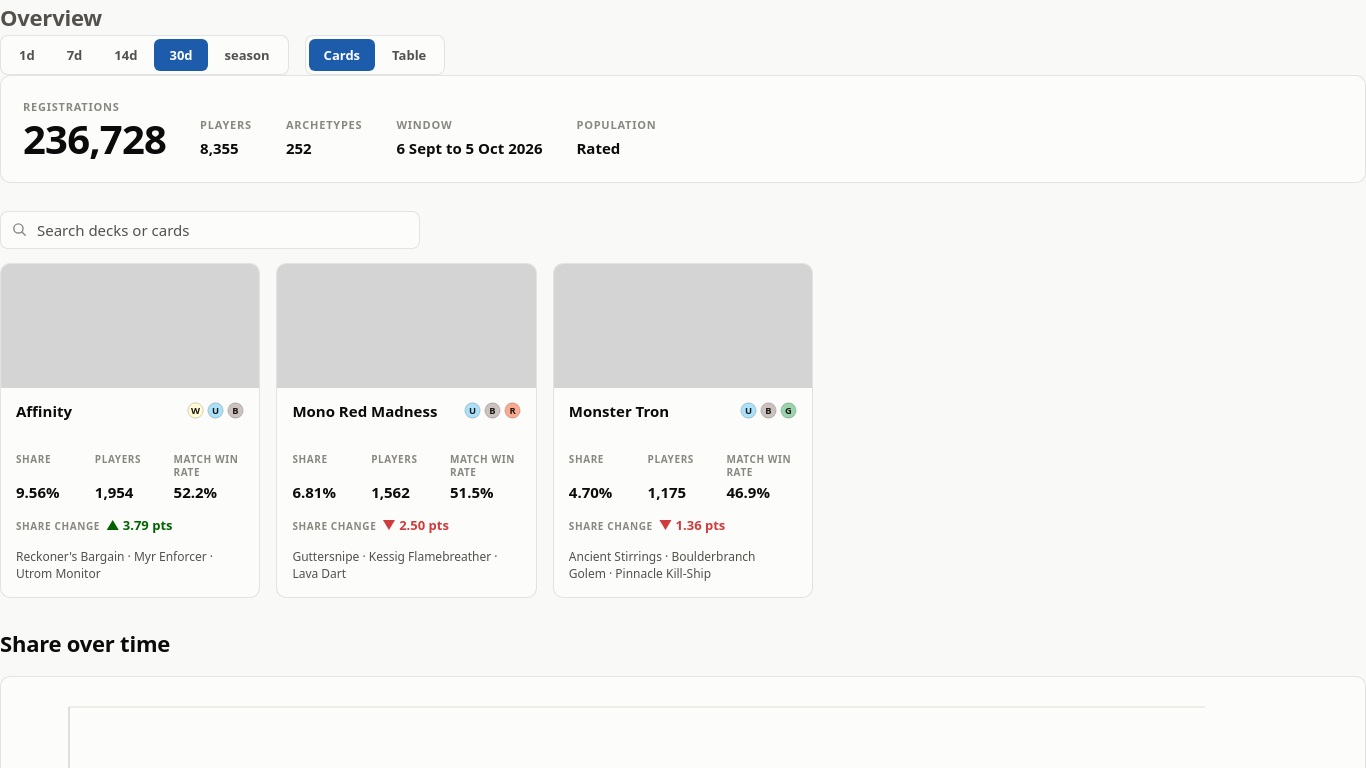
Test: OverviewPage › removes an unknown view from the address when the cards are picked
The image size is (1366, 768).
Expected: the element named "Decks by meta share" is shown, [0,263,813,598]
Click the button "Cards" at {"x": 342, "y": 55}, box [309,39,375,71]
(page scrolled)
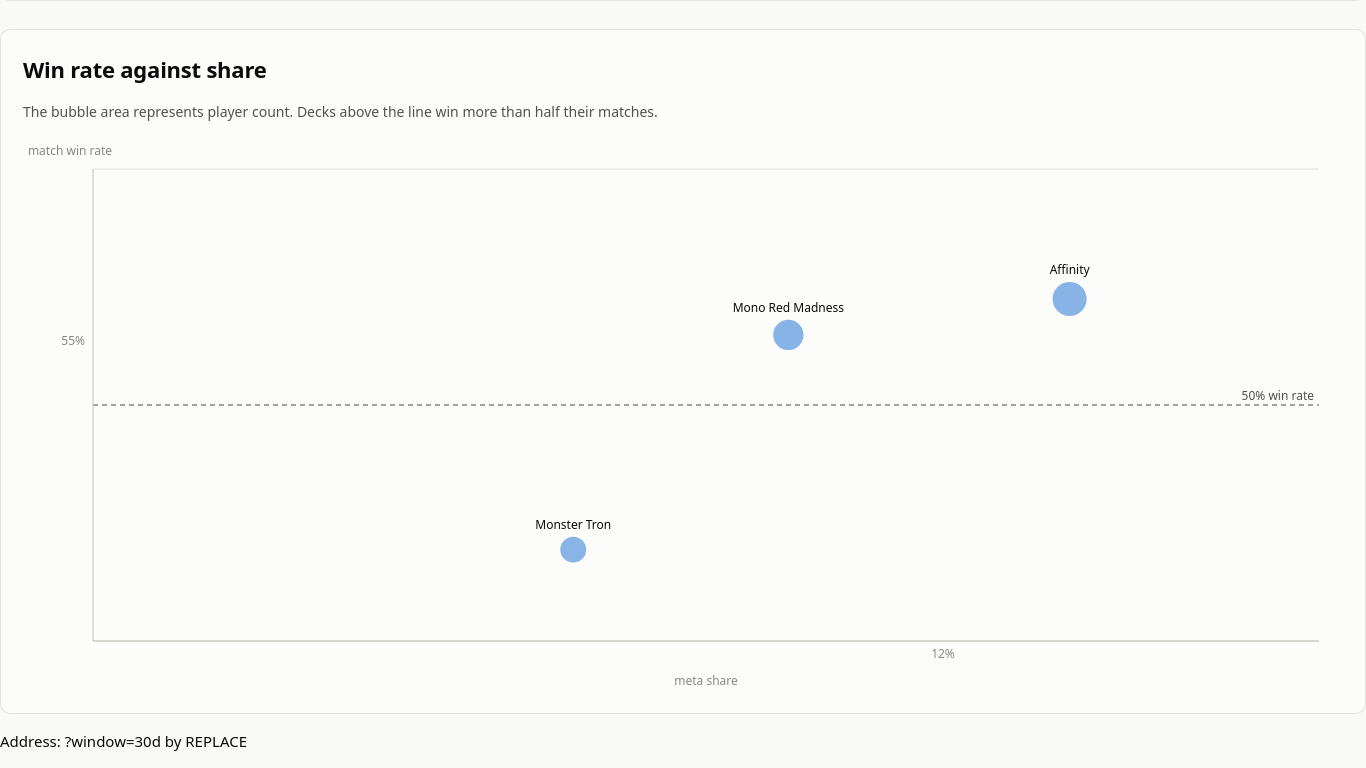
Expected: the text "Address: ?window=30d by REPLACE" is shown, [0,731,247,751]
